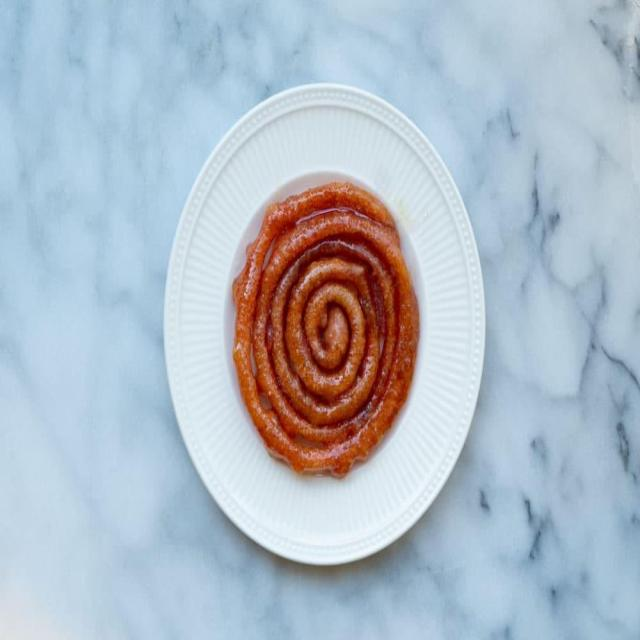jalebi: (226, 181, 420, 468)
